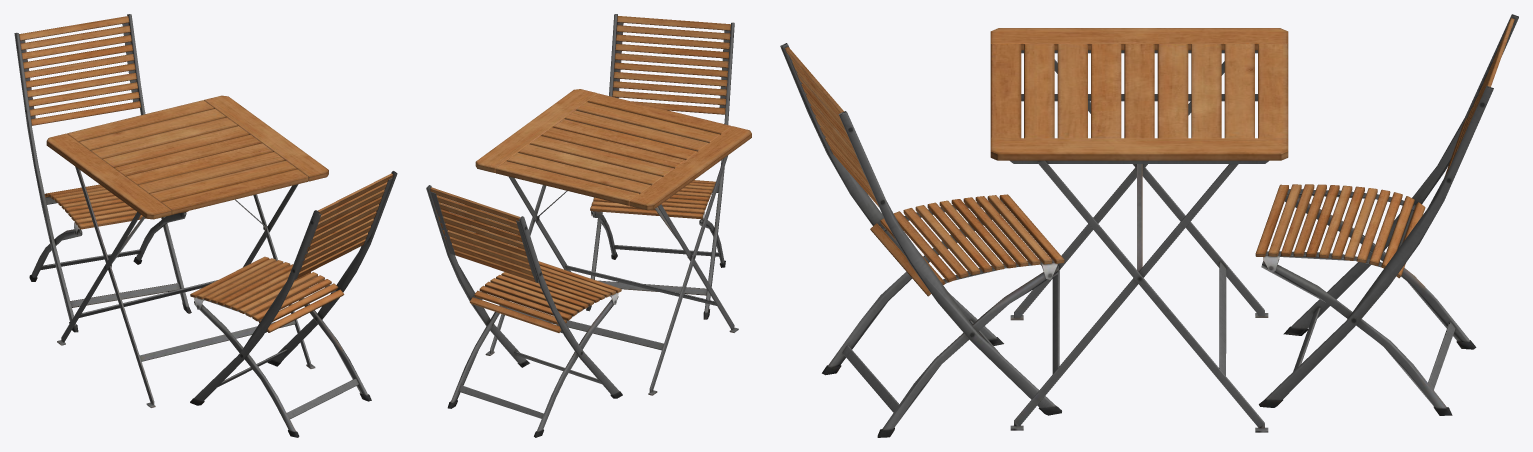
Rendered from ph2_outdoor_table_chair_set_01.glb.
3 views of the same model, side by side, from view 1: azimuth 30°, elevation 25°; view 2: azimuth 150°, elevation 25°; view 3: azimuth 270°, elevation 25° (orthographic). The views are drawn at different scales.
Bounding box in the file's own units: 0.7417 × 0.8556 × 1.72.
Materials: 2 (2 with a texture image).
